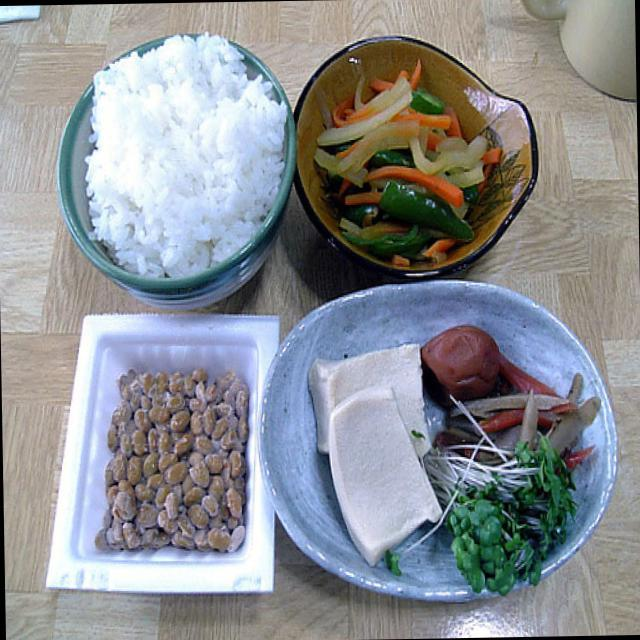Rice: (77, 40, 269, 268)
